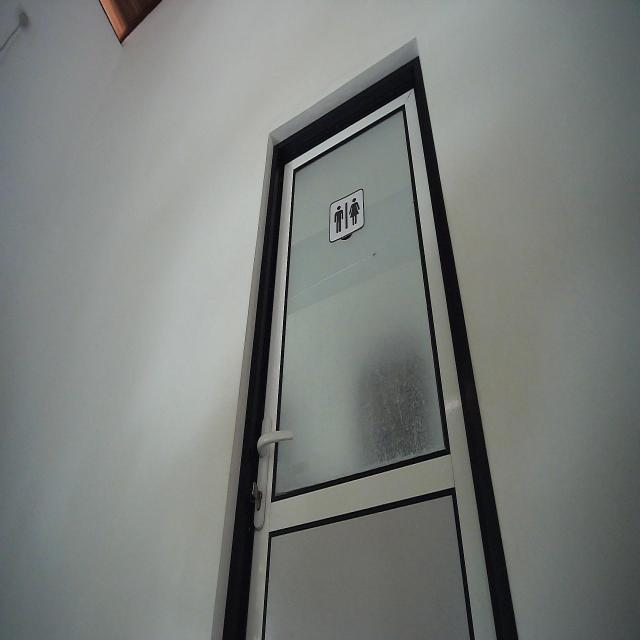restroom: (328, 186, 366, 244)
